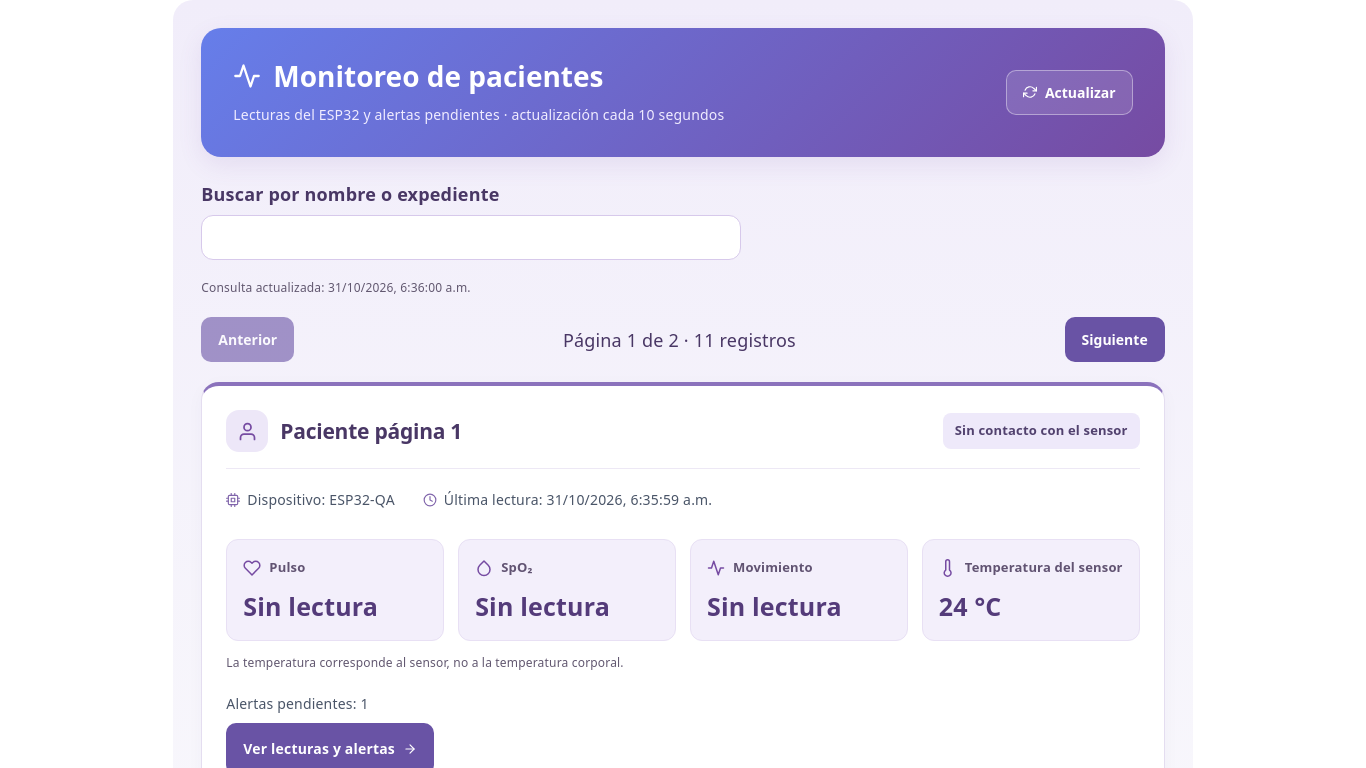
requests another patient page rather than downloading the full list
expect the heading "Paciente página 1" is shown: met, box left=226, top=410, right=462, bottom=452
Click the button "Siguiente".
click(1115, 340)  # box left=1064, top=317, right=1165, bottom=362
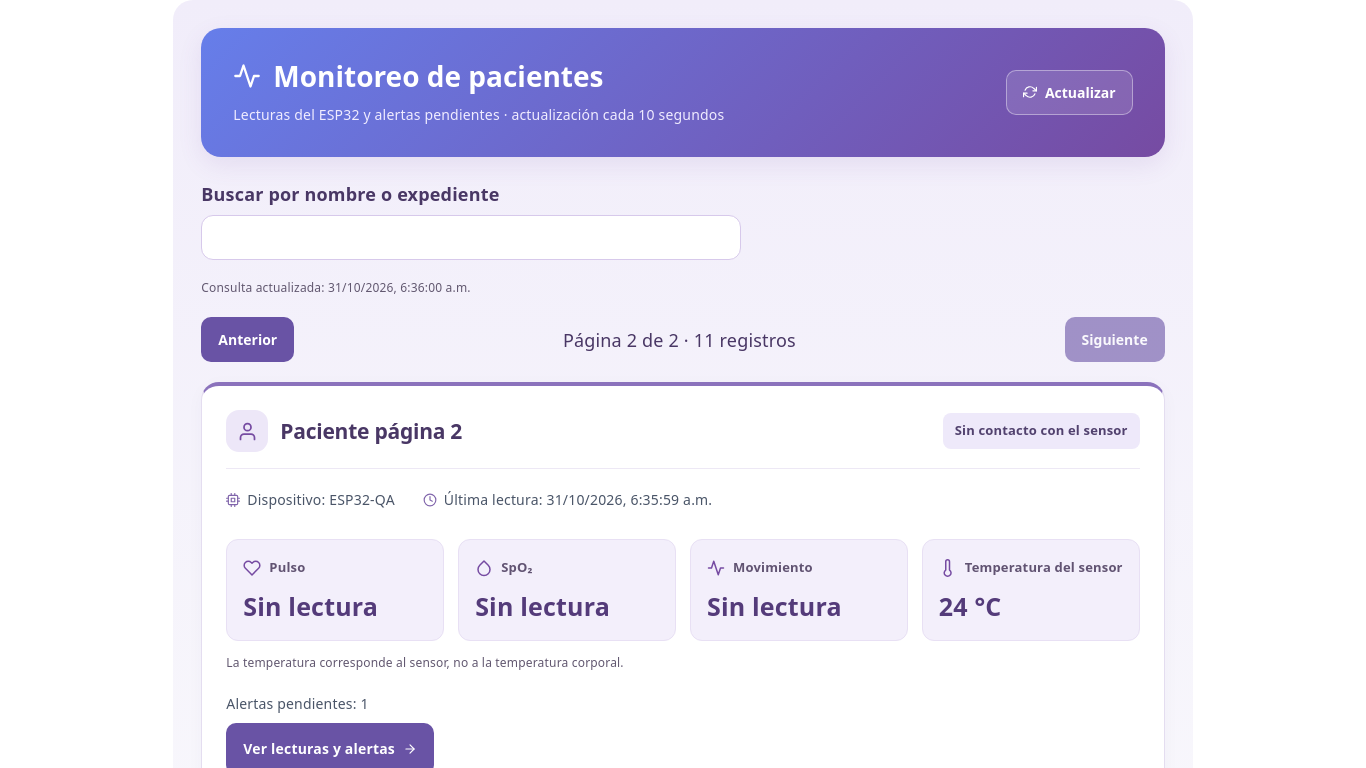
expect the heading "Paciente página 2" is shown: met, box left=226, top=410, right=462, bottom=452
